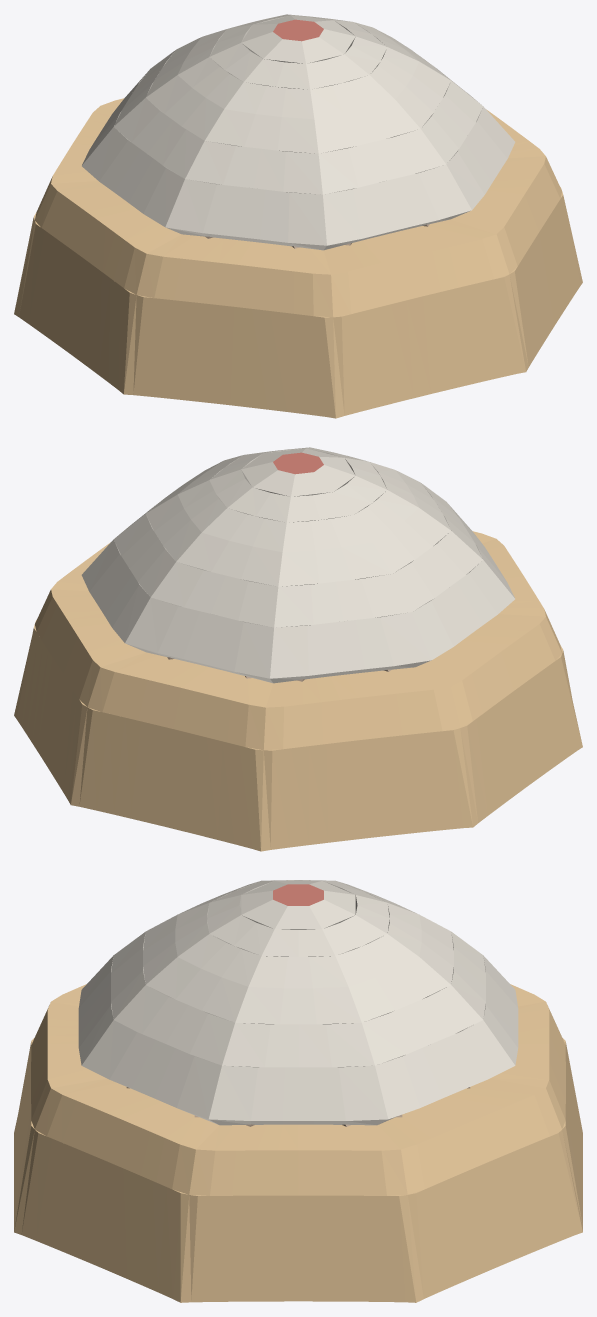
The model's file is modelo.glb.
The picture shows the model from 3 angles, top to bottom: view 1: azimuth 30°, elevation 25°; view 2: azimuth 150°, elevation 25°; view 3: azimuth 270°, elevation 25°; orthographic projection. The views are drawn at different scales.
Parts seen in each view (by area): view 1: plem_s5_h06_04, plem_s5_h06_00, moc_s5_n01_10, moc_s5_n01_01, moc_s5_n01_03, moc_s5_n01_05, moc_s5_n01_02, moc_s5_n01_04, moc_s5_n01_06, moc_s5_n01_07, moc_s5_n01_08, moc_s5_n01_09 (+140 smaller); view 2: plem_s3_h06_00, plem_s3_h06_04, moc_s3_n01_01, moc_s3_n01_10, moc_s3_n01_06, moc_s3_n01_08, moc_s3_n01_05, moc_s3_n01_07, moc_s3_n01_09, moc_s3_n01_04, moc_s3_n01_03, moc_s3_n01_02 (+140 smaller); view 3: plem_s0_h06_00, plem_s0_h06_04, moc_s0_n01_05, moc_s0_n01_06, moc_s0_n01_04, moc_s0_n01_07, moc_s0_n01_01, moc_s0_n01_10, moc_s0_n01_03, moc_s0_n01_08, moc_s0_n01_02, moc_s0_n01_09 (+121 smaller).
Part boxes in pixels (left/top/right/bottom): plem_s5_h06_04: left=288, top=192, right=326, bottom=250; plem_s5_h06_00: left=165, top=179, right=216, bottom=236; moc_s5_n01_10: left=306, top=315, right=326, bottom=416; moc_s5_n01_01: left=133, top=296, right=161, bottom=396; moc_s5_n01_03: left=172, top=301, right=197, bottom=400; moc_s5_n01_05: left=210, top=305, right=233, bottom=405; moc_s5_n01_02: left=152, top=299, right=179, bottom=398; moc_s5_n01_04: left=191, top=303, right=215, bottom=402; moc_s5_n01_06: left=230, top=307, right=251, bottom=407; moc_s5_n01_07: left=249, top=309, right=270, bottom=409; moc_s5_n01_08: left=268, top=311, right=288, bottom=411; moc_s5_n01_09: left=287, top=313, right=306, bottom=414; plem_s3_h06_00: left=270, top=625, right=308, bottom=683; plem_s3_h06_04: left=380, top=612, right=431, bottom=669; moc_s3_n01_01: left=270, top=748, right=290, bottom=849; moc_s3_n01_10: left=435, top=729, right=463, bottom=829; moc_s3_n01_06: left=363, top=738, right=386, bottom=838; moc_s3_n01_08: left=399, top=734, right=424, bottom=833; moc_s3_n01_05: left=345, top=740, right=366, bottom=840; moc_s3_n01_07: left=381, top=736, right=405, bottom=835; moc_s3_n01_09: left=417, top=732, right=444, bottom=831; moc_s3_n01_04: left=326, top=742, right=347, bottom=842; moc_s3_n01_03: left=308, top=744, right=328, bottom=844; moc_s3_n01_02: left=290, top=746, right=309, bottom=847; plem_s0_h06_00: left=208, top=1065, right=257, bottom=1125; plem_s0_h06_04: left=339, top=1065, right=388, bottom=1125; moc_s0_n01_05: left=277, top=1195, right=298, bottom=1301; moc_s0_n01_06: left=298, top=1195, right=319, bottom=1301; moc_s0_n01_04: left=255, top=1195, right=278, bottom=1301; moc_s0_n01_07: left=318, top=1195, right=341, bottom=1301; moc_s0_n01_01: left=191, top=1195, right=217, bottom=1302; moc_s0_n01_10: left=379, top=1195, right=405, bottom=1302; moc_s0_n01_03: left=234, top=1195, right=258, bottom=1301; moc_s0_n01_08: left=338, top=1195, right=362, bottom=1301; moc_s0_n01_02: left=212, top=1195, right=237, bottom=1301; moc_s0_n01_09: left=359, top=1195, right=384, bottom=1301.
Size of the model in its own units: 9.16 by 5.26 by 9.16.
